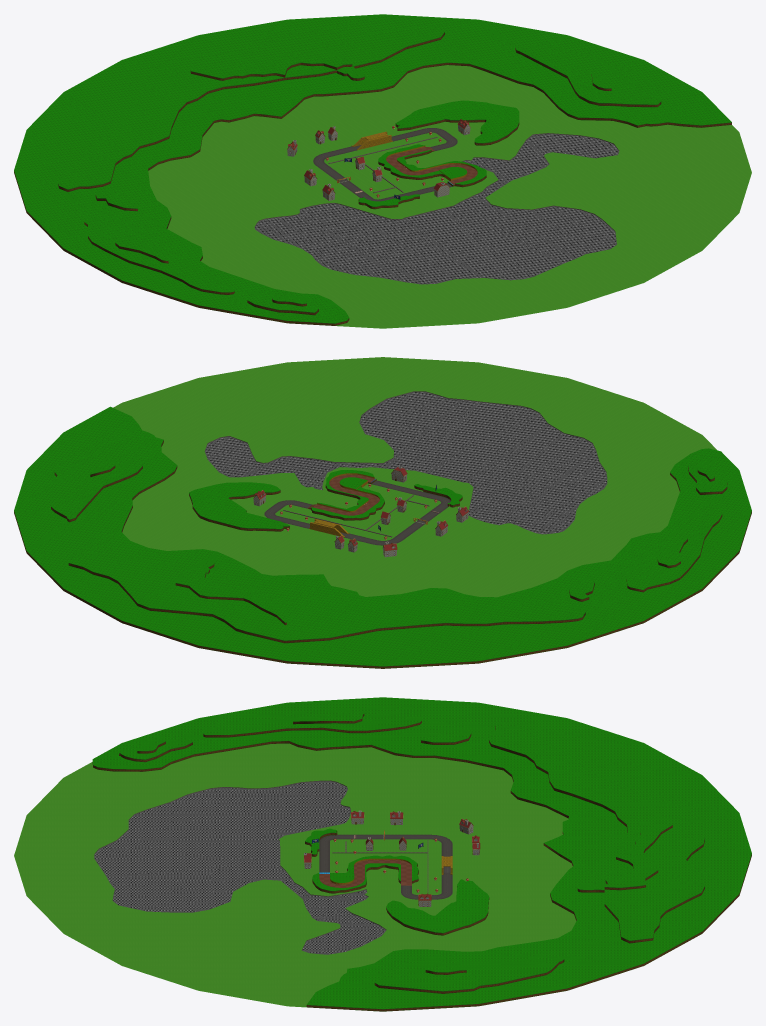
3 views of the same model, one above another, from view 1: azimuth 30°, elevation 25°; view 2: azimuth 150°, elevation 25°; view 3: azimuth 270°, elevation 25° (orthographic).
Parts seen in each view (by area): view 1: Course-SKP--road_3.016, Course-SKP--road_3.028, Course-SKP--road_3, Course-SKP--road_3.022, Course-SKP--road_3.004, Course-SKP--road_3.027, Course-SKP--road_3.005, Course-SKP--road_3.001, Course-SKP--road_3.020; view 2: Course-SKP--road_3.016, Course-SKP--road_3.028, Course-SKP--road_3, Course-SKP--road_3.022, Course-SKP--road_3.004, Course-SKP--road_3.005, Course-SKP--road_3.027, Course-SKP--road_3.001, Course-SKP--road_3.020; view 3: Course-SKP--road_3.016, Course-SKP--road_3.028, Course-SKP--road_3, Course-SKP--road_3.022, Course-SKP--road_3.004, Course-SKP--road_3.027, Course-SKP--road_3.001, Course-SKP--road_3.005.
Boxes of the visible parts, bbox=[...] form: Course-SKP--road_3.016: bbox=[148, 65, 751, 328]; Course-SKP--road_3.028: bbox=[14, 14, 731, 323]; Course-SKP--road_3: bbox=[254, 133, 619, 284]; Course-SKP--road_3.022: bbox=[14, 32, 731, 325]; Course-SKP--road_3.004: bbox=[313, 128, 457, 201]; Course-SKP--road_3.027: bbox=[255, 133, 619, 243]; Course-SKP--road_3.005: bbox=[287, 122, 470, 200]; Course-SKP--road_3.001: bbox=[386, 147, 477, 184]; Course-SKP--road_3.020: bbox=[351, 131, 477, 180]; Course-SKP--road_3.016: bbox=[113, 357, 716, 597]; Course-SKP--road_3.028: bbox=[14, 406, 751, 666]; Course-SKP--road_3: bbox=[205, 392, 607, 534]; Course-SKP--road_3.022: bbox=[14, 440, 751, 668]; Course-SKP--road_3.004: bbox=[264, 480, 450, 545]; Course-SKP--road_3.005: bbox=[253, 466, 468, 557]; Course-SKP--road_3.027: bbox=[204, 391, 606, 537]; Course-SKP--road_3.001: bbox=[307, 474, 379, 515]; Course-SKP--road_3.020: bbox=[309, 473, 379, 537]; Course-SKP--road_3.016: bbox=[14, 743, 576, 1007]; Course-SKP--road_3.028: bbox=[92, 697, 751, 1008]; Course-SKP--road_3: bbox=[94, 781, 386, 954]; Course-SKP--road_3.022: bbox=[92, 714, 751, 1011]; Course-SKP--road_3.004: bbox=[319, 834, 452, 899]; Course-SKP--road_3.027: bbox=[94, 780, 428, 949]; Course-SKP--road_3.001: bbox=[319, 860, 411, 887]; Course-SKP--road_3.005: bbox=[304, 810, 479, 906].
Bounding box in the file's own units: 260859 × 5145 × 260859.
Materials: 29 (28 with a texture image).
